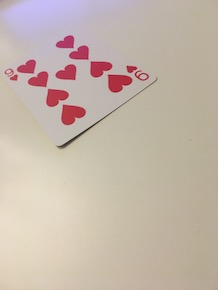NineOfHearts: (1, 23, 158, 151)
